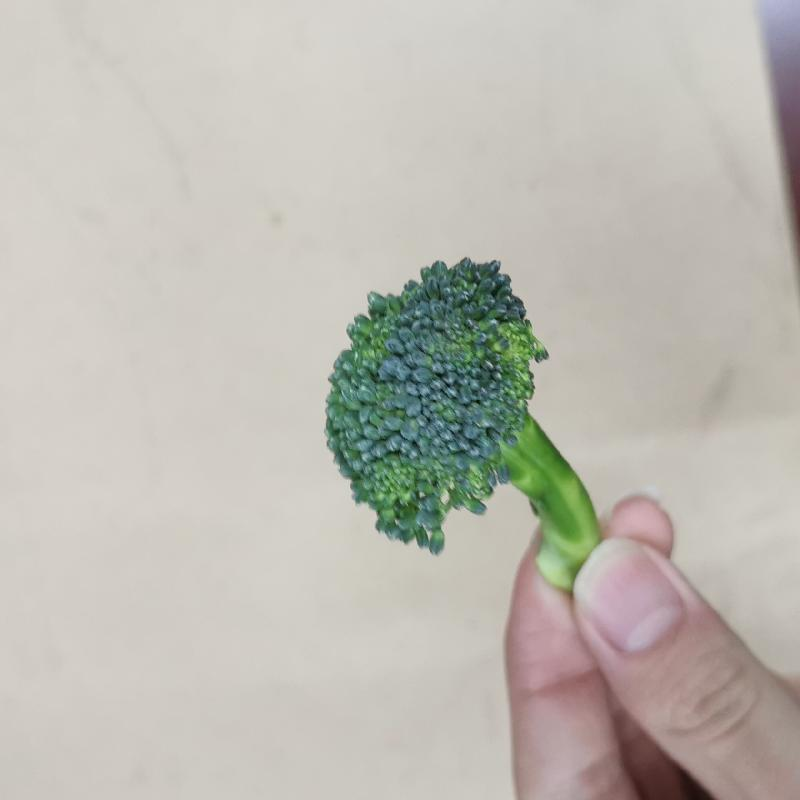broccoli: (314, 254, 633, 609)
